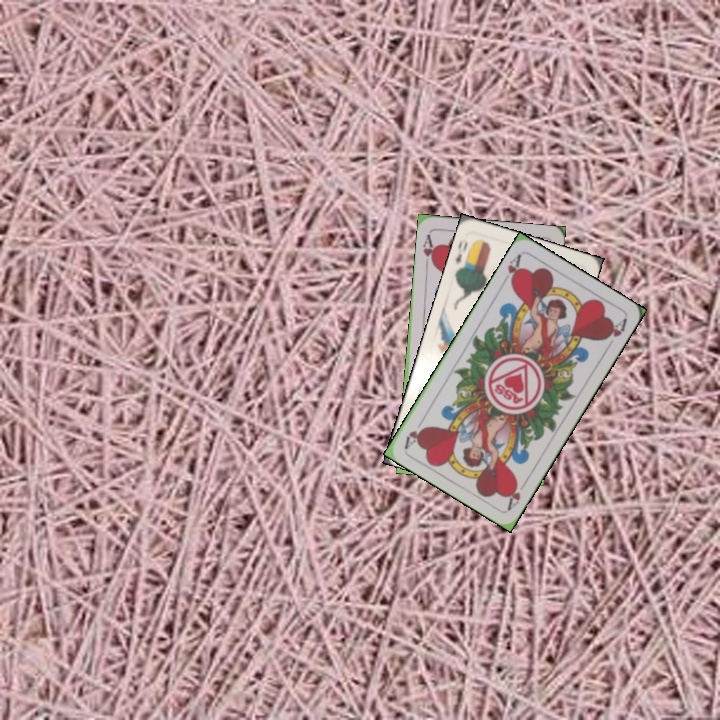EO: (451, 237, 474, 272)
HA: (503, 475, 530, 512), (498, 250, 524, 287), (419, 230, 438, 270)
